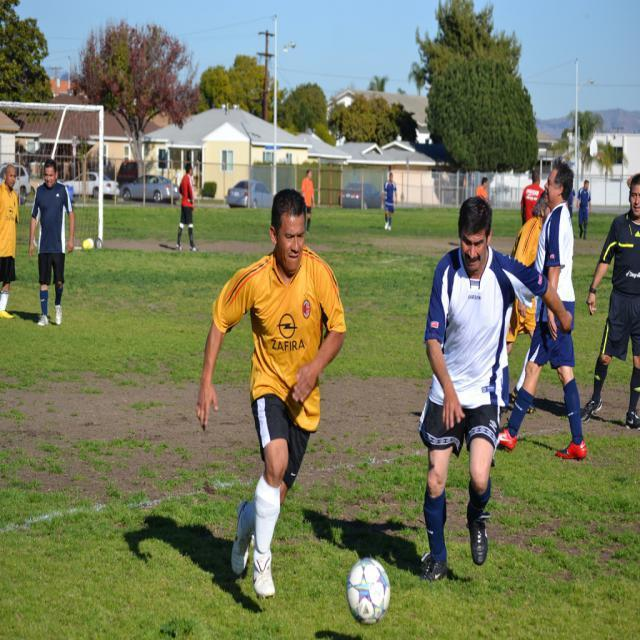football: (333, 549, 408, 628)
